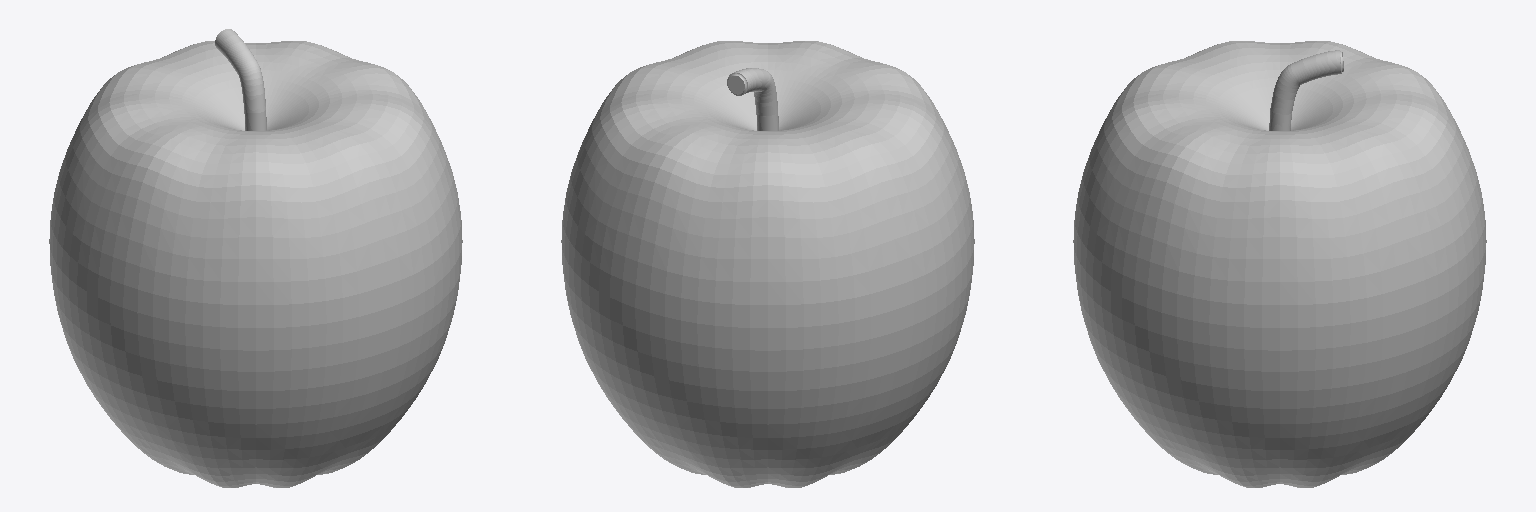
File: maca.obj
3 views of the same model, side by side, from view 1: azimuth 30°, elevation 25°; view 2: azimuth 150°, elevation 25°; view 3: azimuth 270°, elevation 25° (orthographic).
Visible parts, largest first — view 1: Sphere, Pauzinho; view 2: Sphere, Pauzinho; view 3: Sphere, Pauzinho.
Boxes of the visible parts, x1,y1,x2,y2 form: Sphere: [49, 41, 462, 487]; Pauzinho: [215, 29, 266, 130]; Sphere: [561, 41, 974, 487]; Pauzinho: [734, 68, 778, 130]; Sphere: [1073, 41, 1486, 487]; Pauzinho: [1269, 50, 1341, 130].
Bounding box in the file's own units: 170 × 186 × 170.